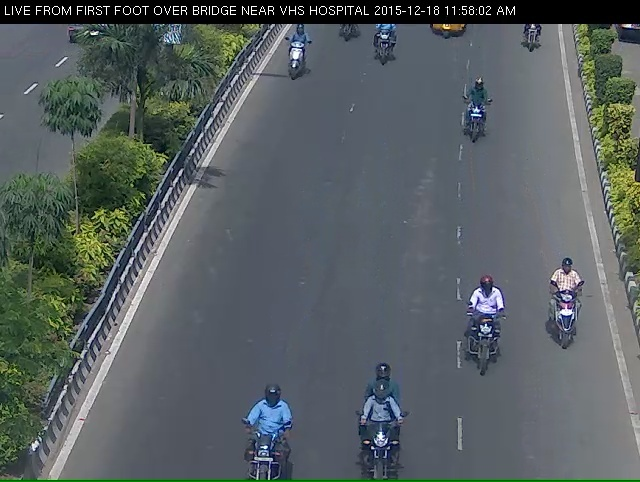Person: (532, 267, 604, 366), (451, 290, 514, 402), (211, 402, 298, 478), (344, 398, 408, 478), (457, 80, 494, 159), (277, 27, 308, 90), (366, 21, 400, 70), (327, 19, 358, 66), (512, 22, 541, 68)
